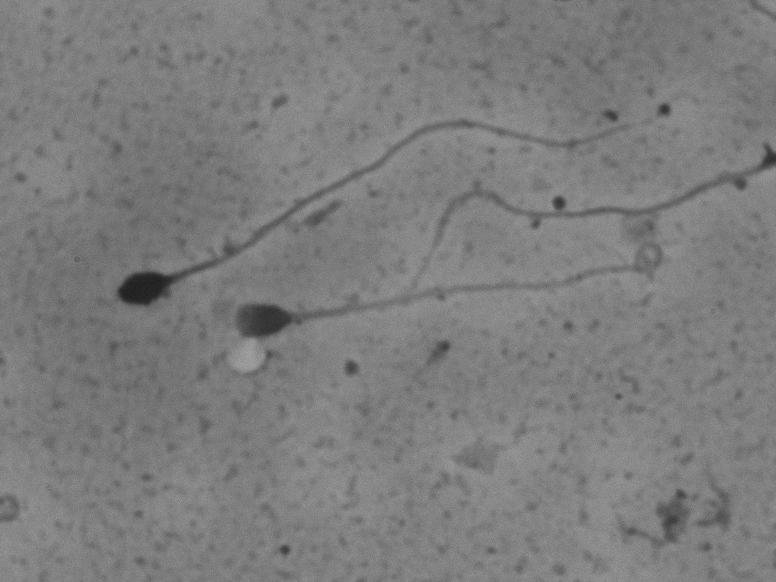Abnormal: (225, 244, 677, 347)
Normal: (96, 82, 697, 318)
